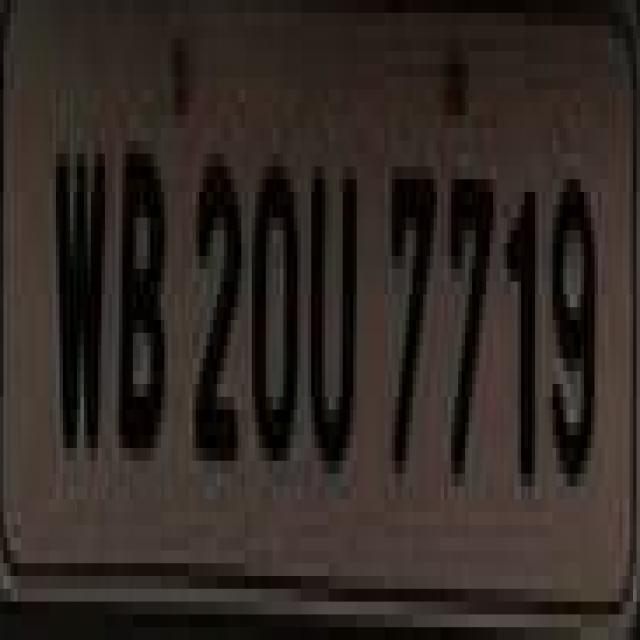license_plate: (4, 12, 605, 602)
